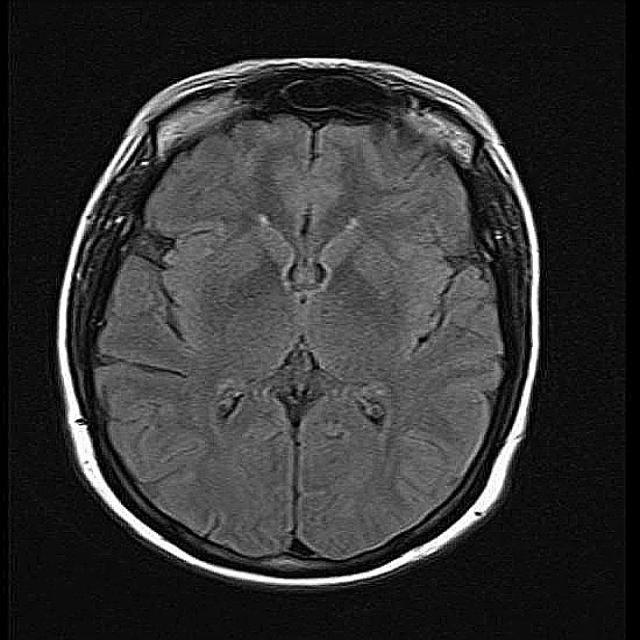notumor: (55, 60, 542, 596)
